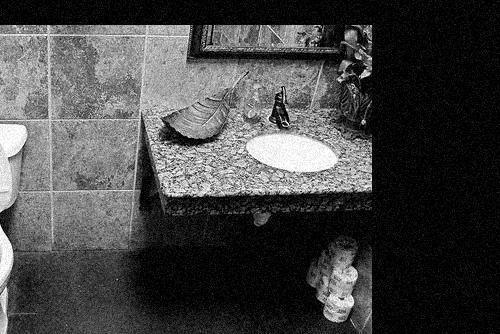Lavamanos: (243, 79, 349, 172)
Sanitario: (0, 119, 26, 334)
